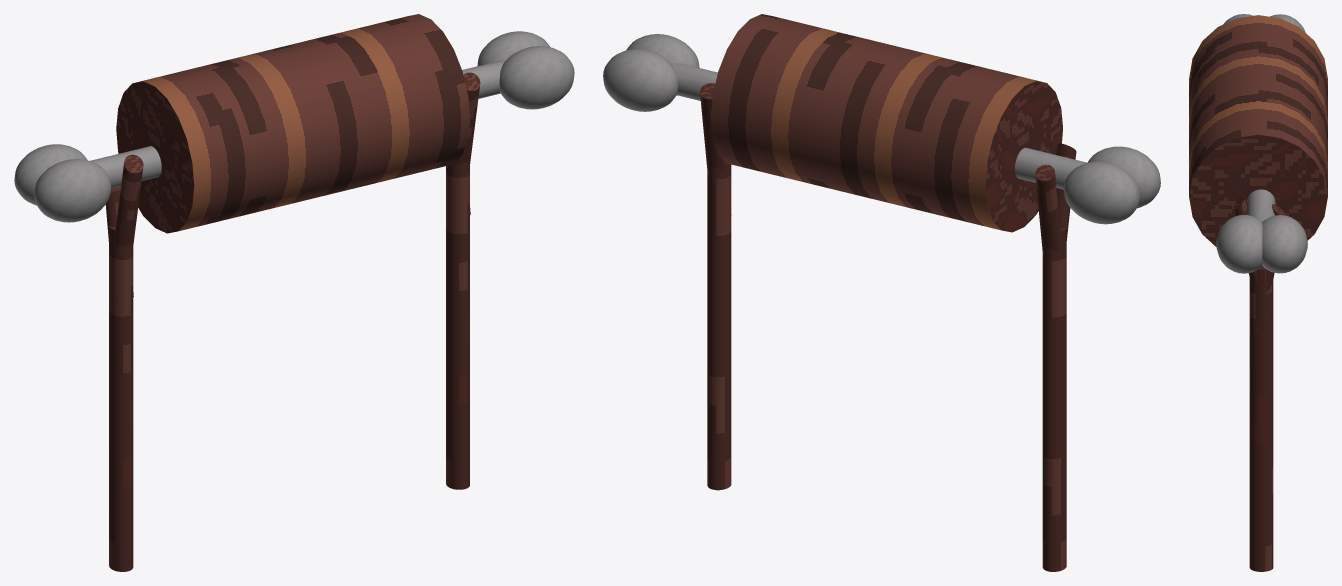
The model's file is MeatHolder.fbx.
3 renders of one model, left to right at view 1: azimuth 30°, elevation 25°; view 2: azimuth 150°, elevation 25°; view 3: azimuth 270°, elevation 25°, orthographic. The views are drawn at different scales.
Parts seen in each view (by area): view 1: Meat, MeatHolder3, MeatHolder, pSphere4, pSphere1, MeatHolder1 (×2), pCylinder2, pSphere3, pSphere2; view 2: Meat, MeatHolder3, MeatHolder, pSphere3, pSphere2, MeatHolder2 (×2), pCylinder2, pSphere4, pSphere1; view 3: Meat, MeatHolder, pSphere1, pSphere2, pCylinder2, MeatHolder1, MeatHolder2.
Part boxes in pixels (x1,y1,x2,y2): Meat: [116, 14, 469, 233]; MeatHolder3: [109, 226, 133, 571]; MeatHolder: [446, 162, 469, 489]; pSphere4: [34, 159, 111, 222]; pSphere1: [499, 46, 574, 109]; MeatHolder1 (×2): [115, 72, 480, 247]; pCylinder2: [90, 60, 505, 188]; pSphere3: [14, 144, 87, 205]; pSphere2: [477, 31, 550, 66]; Meat: [711, 14, 1062, 232]; MeatHolder3: [1042, 227, 1066, 571]; MeatHolder: [707, 162, 731, 490]; pSphere3: [1063, 161, 1139, 224]; pSphere2: [603, 49, 677, 111]; MeatHolder2 (×2): [700, 83, 1060, 252]; pCylinder2: [671, 63, 1087, 189]; pSphere4: [1087, 146, 1160, 208]; pSphere1: [626, 34, 699, 95]; Meat: [1189, 15, 1327, 246]; MeatHolder: [1249, 267, 1273, 571]; pSphere1: [1216, 215, 1262, 273]; pSphere2: [1262, 215, 1307, 273]; pCylinder2: [1247, 189, 1275, 221]; MeatHolder1: [1233, 195, 1267, 313]; MeatHolder2: [1252, 204, 1284, 332].
Bounding box in the file's own units: 7333 × 6208 × 1856.
Materials: 3 (3 with a texture image).
